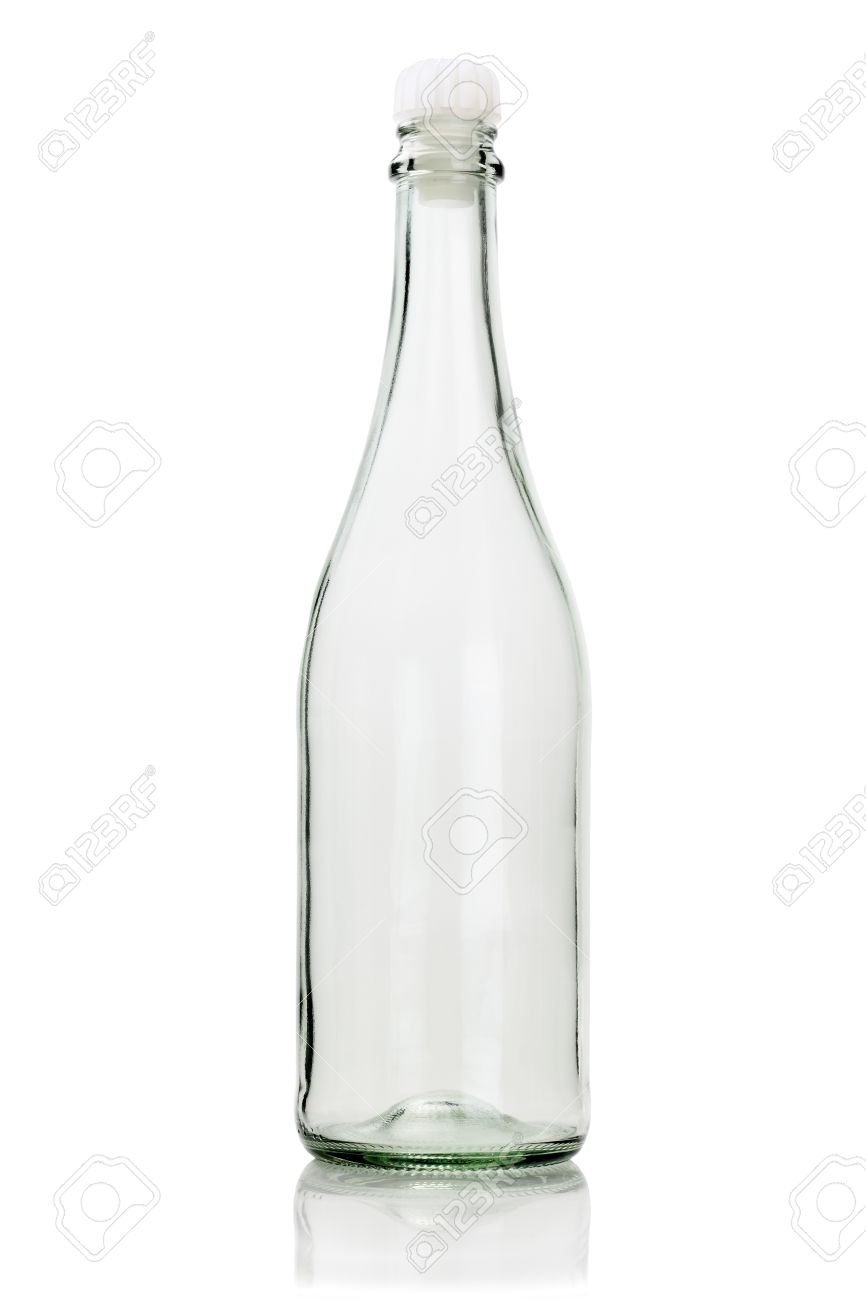glass_bottle: (261, 38, 620, 1225)
